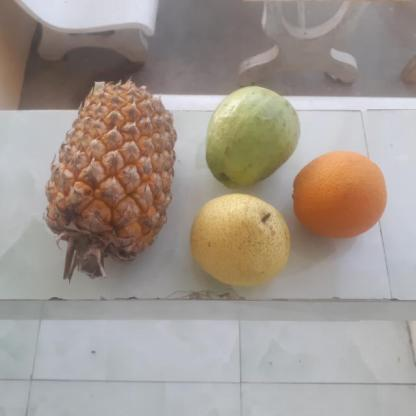guava: (204, 87, 300, 184)
orange: (289, 146, 389, 237)
pear: (186, 195, 291, 288)
pineapple: (44, 86, 172, 269)
